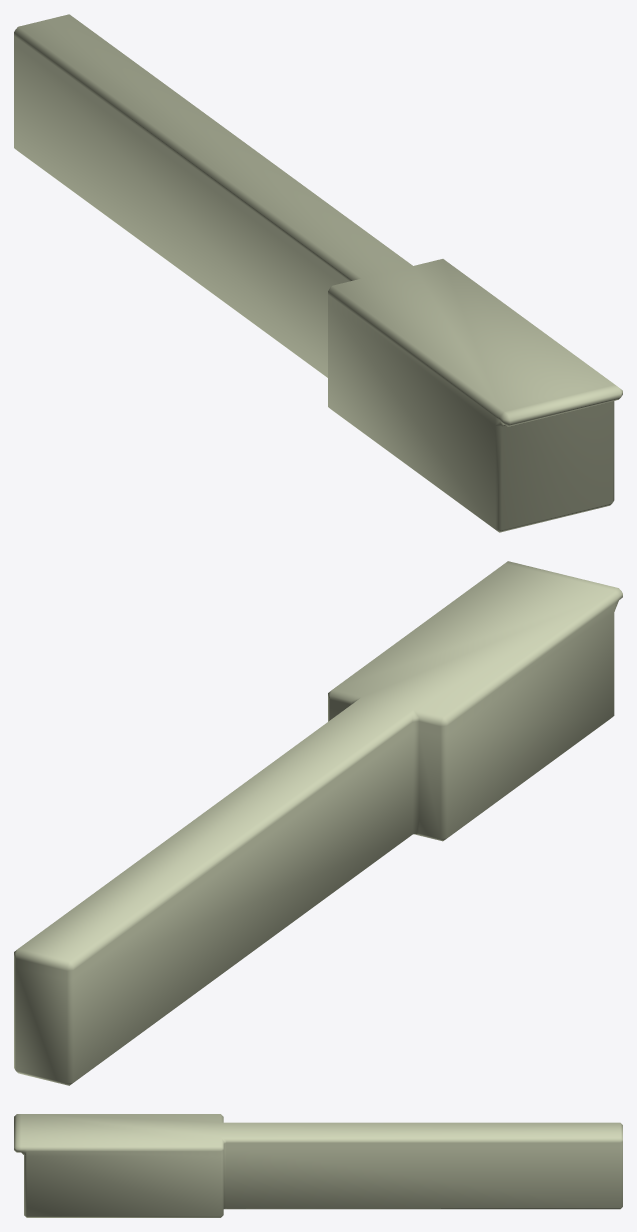
File: keyDoubleIndent.obj
3 renders of one model, top to bottom at view 1: azimuth 30°, elevation 25°; view 2: azimuth 150°, elevation 25°; view 3: azimuth 270°, elevation 25°, orthographic. The views are drawn at different scales.
Parts seen in each view (by area): view 1: keyDoubleIndent; view 2: keyDoubleIndent; view 3: keyDoubleIndent.
Part boxes in pixels (left/top/right/bottom): keyDoubleIndent: left=14, top=14, right=622, bottom=532; keyDoubleIndent: left=14, top=561, right=622, bottom=1085; keyDoubleIndent: left=14, top=1114, right=622, bottom=1217.
Size of the model in its own units: 2 by 2 by 15.25.
